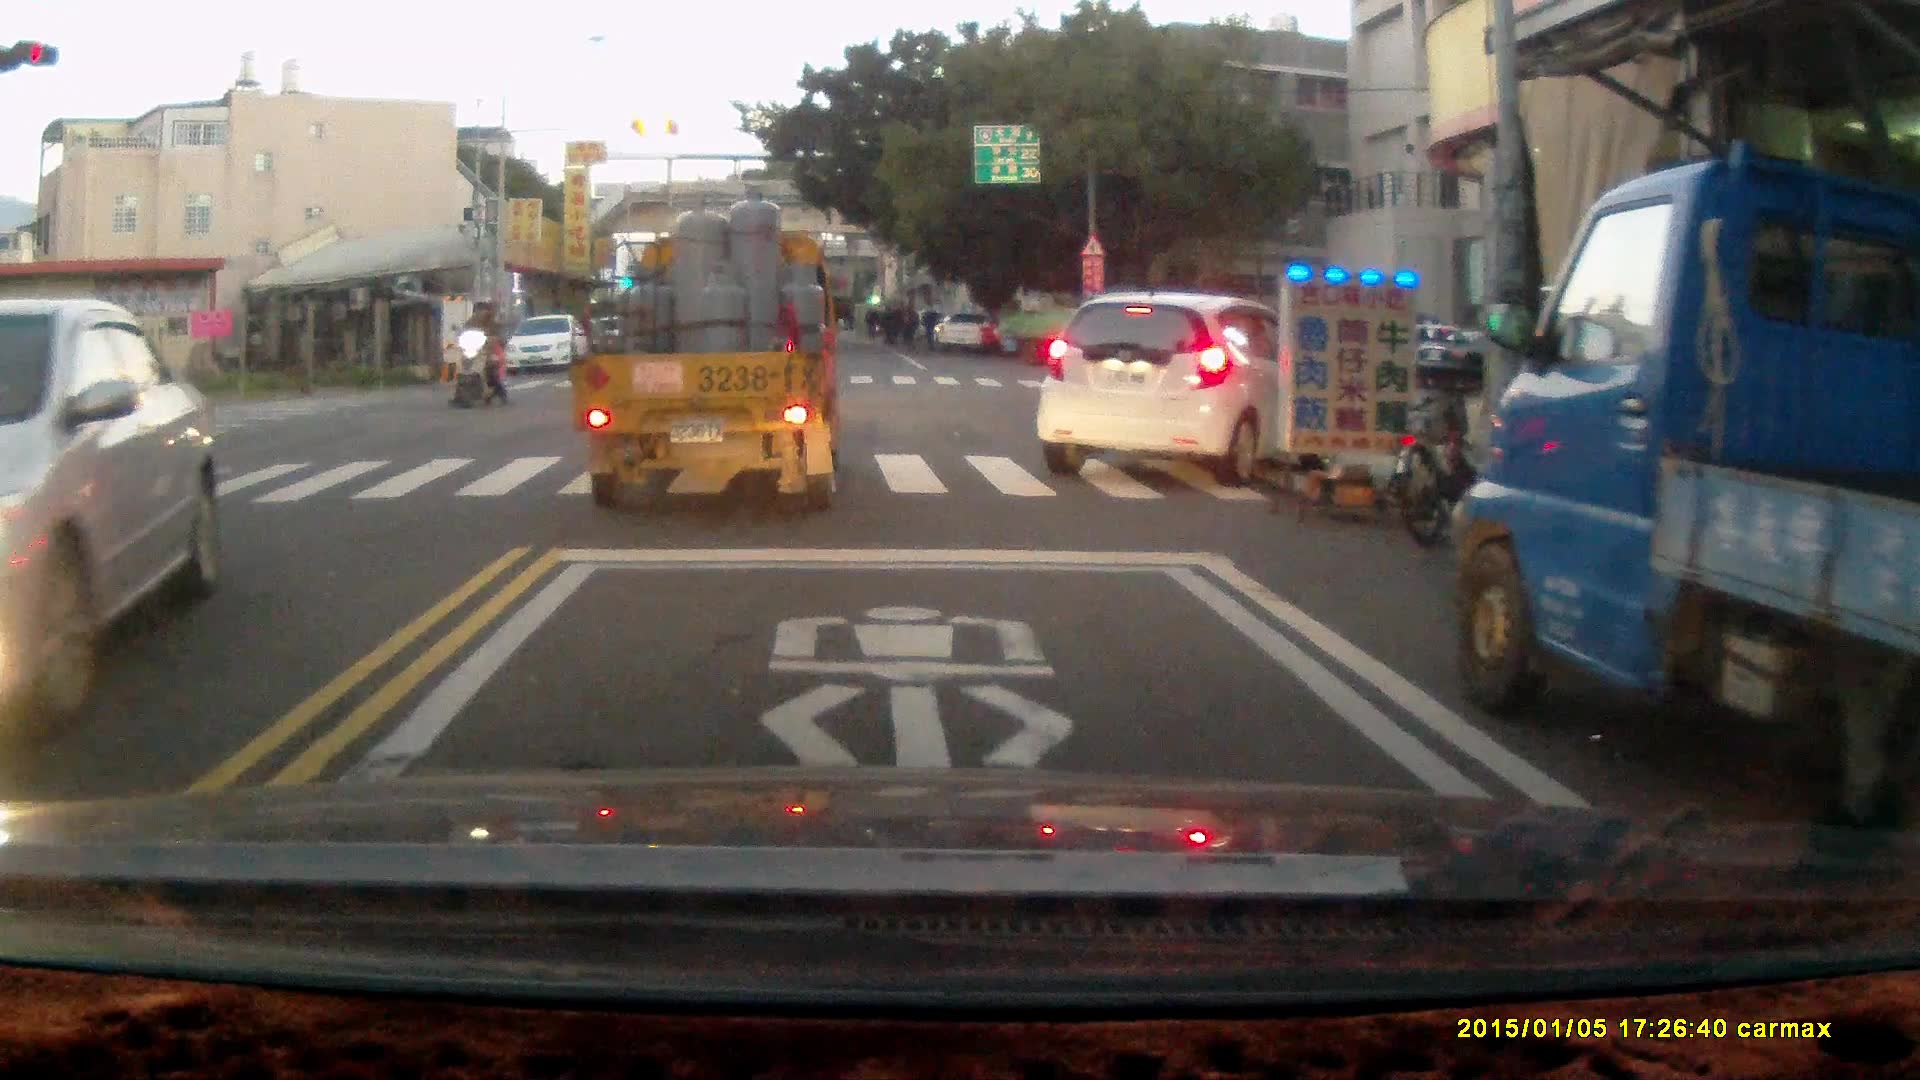rider: (449, 299, 506, 409)
vehicle: (1441, 158, 1920, 814), (1, 295, 218, 753), (570, 189, 847, 515), (1032, 288, 1312, 469), (1002, 284, 1169, 367), (507, 312, 588, 379)
